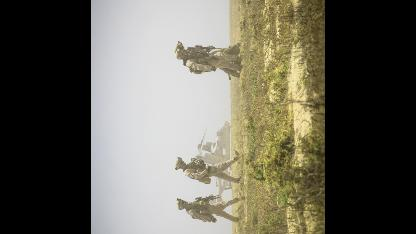Tornado: (194, 118, 232, 204)
